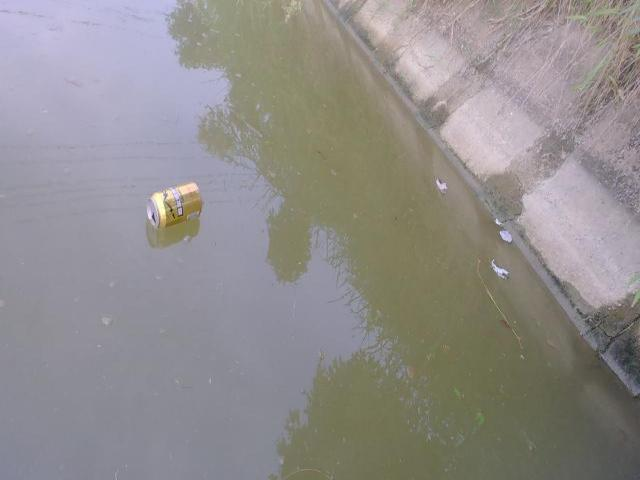Can: (140, 179, 210, 234)
